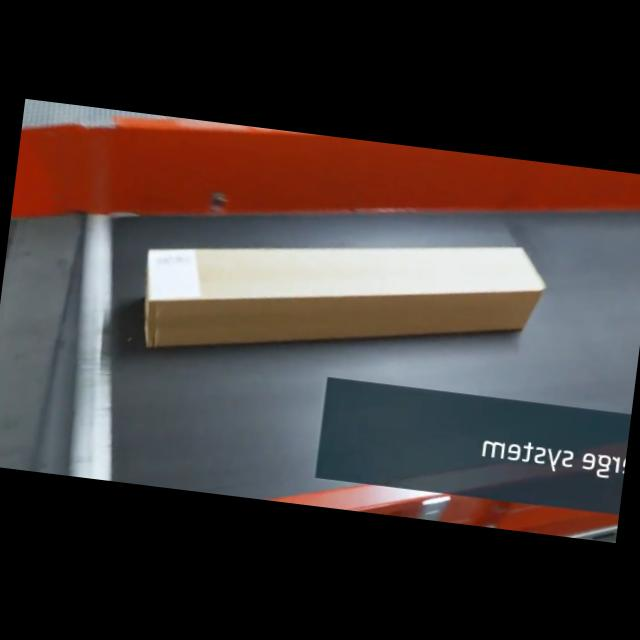box: (132, 198, 548, 396)
